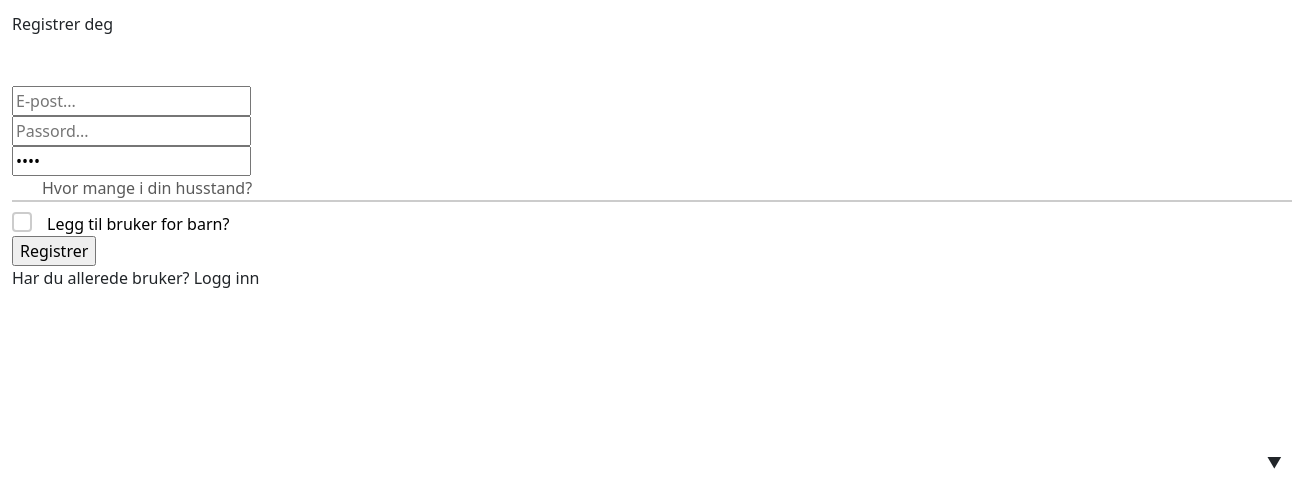
Scenario: Signup form validation › should show an error message if email field is empty
The width and height of the screenshot is (1304, 486).
Type "testpassword" into the password field with placeholder "Passord..." at (132, 131), box top-left (12, 116), bottom-right (251, 146)
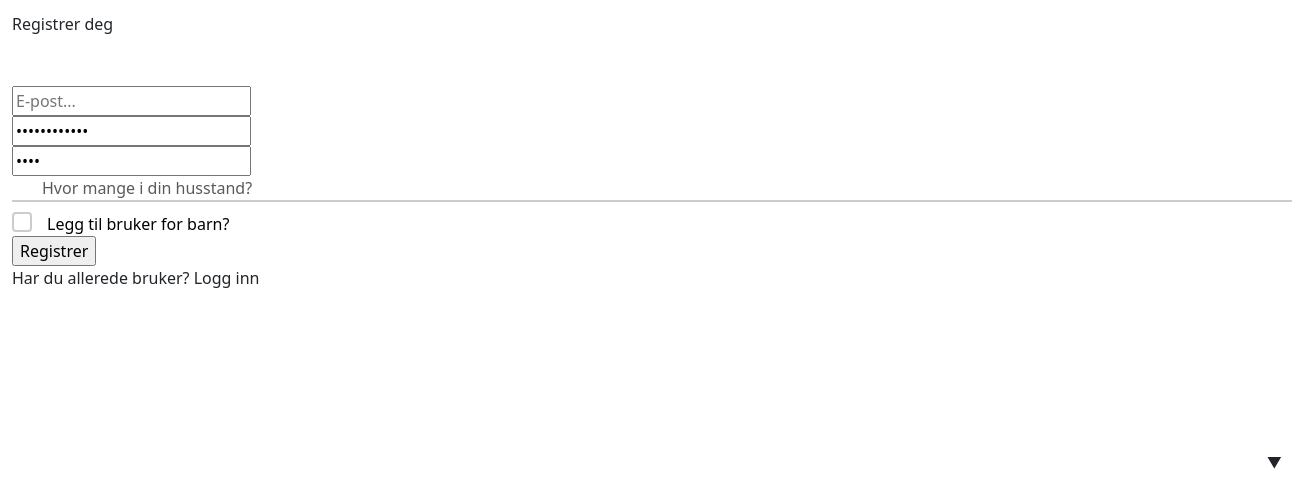
Type "testpassword" into the 2nd password field with placeholder "Bekreft passord..." at (132, 161), box top-left (12, 146), bottom-right (251, 176)
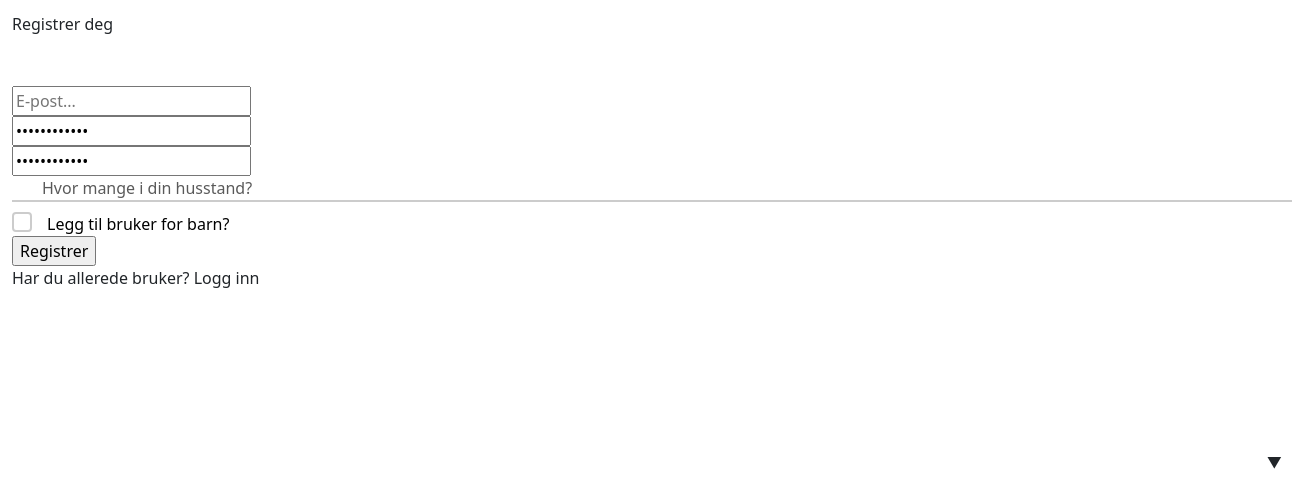
Submit the form, box top-left (12, 86), bottom-right (1292, 290)
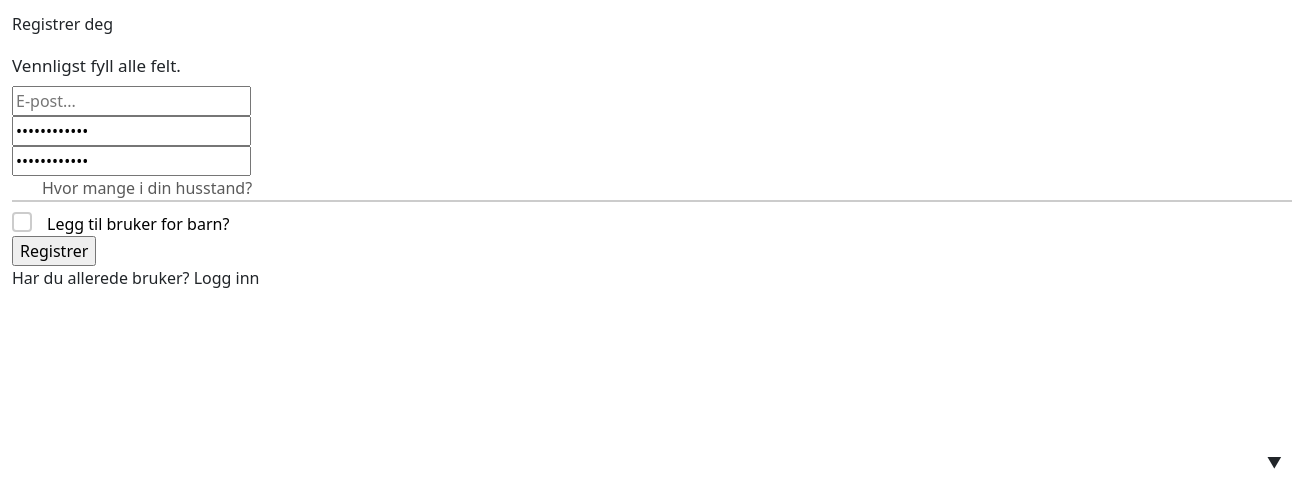
Now the heading "Vennligst fyll alle felt." is shown, box top-left (12, 54), bottom-right (181, 77)
